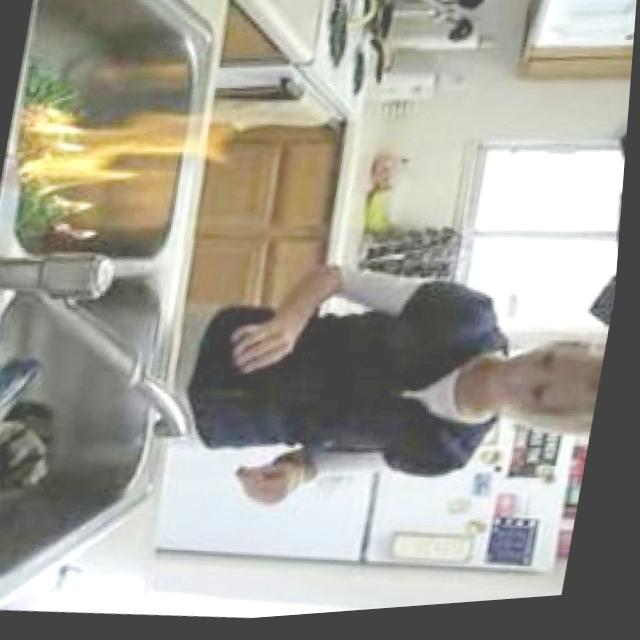helmet: (11, 97, 239, 211), (50, 191, 110, 244)
